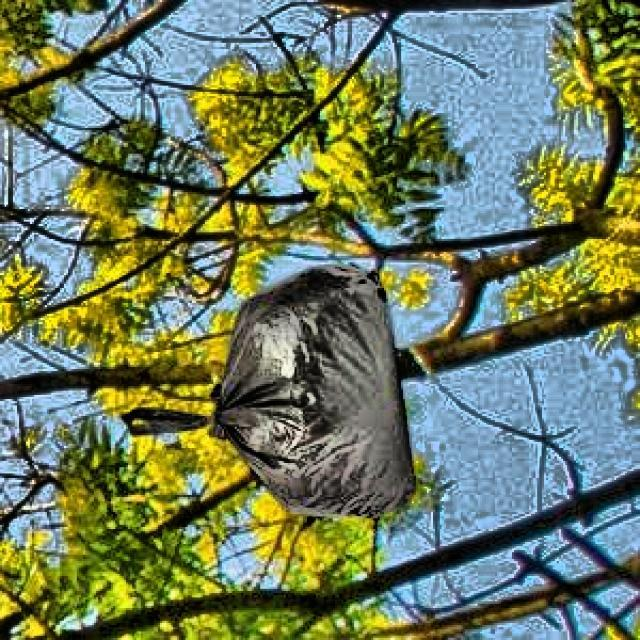Trashbag: (113, 260, 423, 522)
